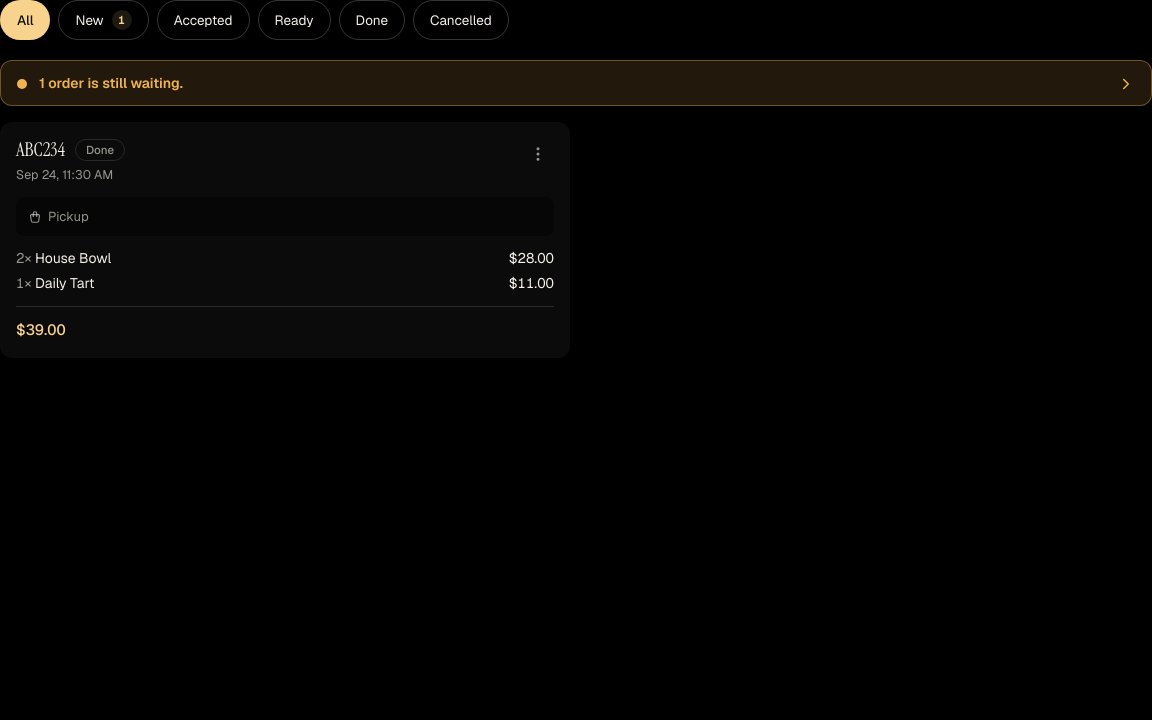
it: OrdersPage › keeps the order when the owner backs out of deleting it
This screenshot has width=1152, height=720.
Click the button named "More for order ABC234".
click(538, 154)  # box [522, 138, 554, 170]
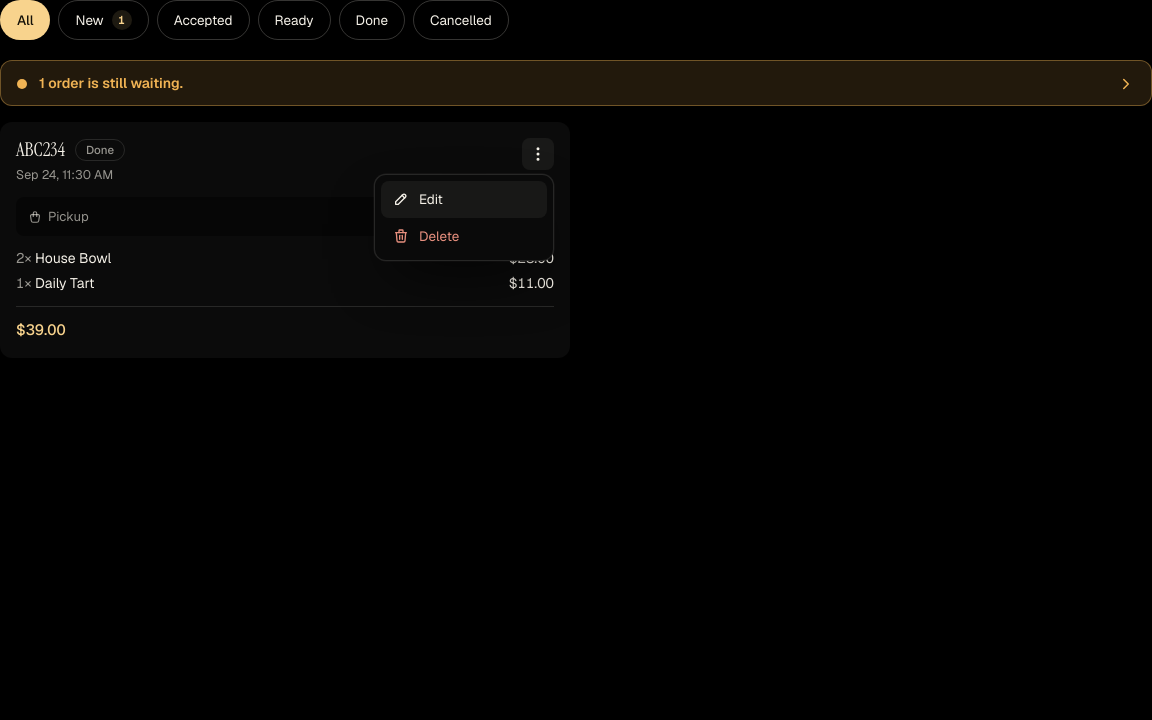
Click the menu item with aria-label "Delete order ABC234".
click(464, 236)  # box [381, 218, 547, 254]
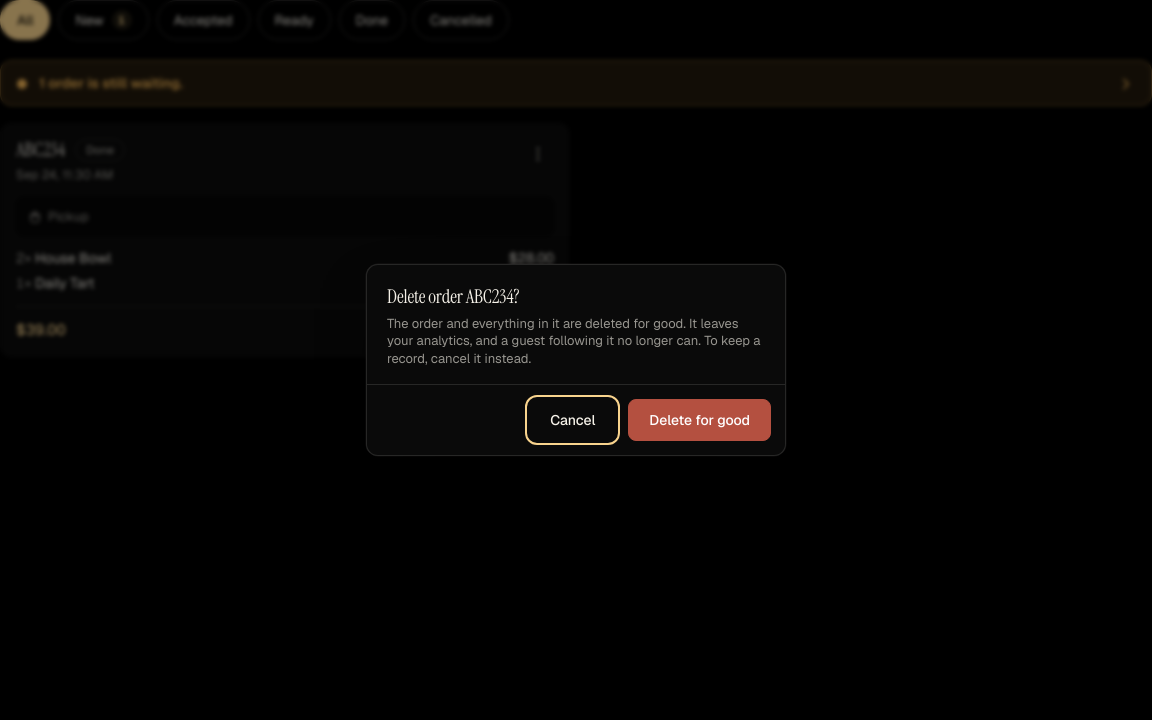
Click the button "Cancel".
click(573, 420)  # box [529, 399, 616, 441]
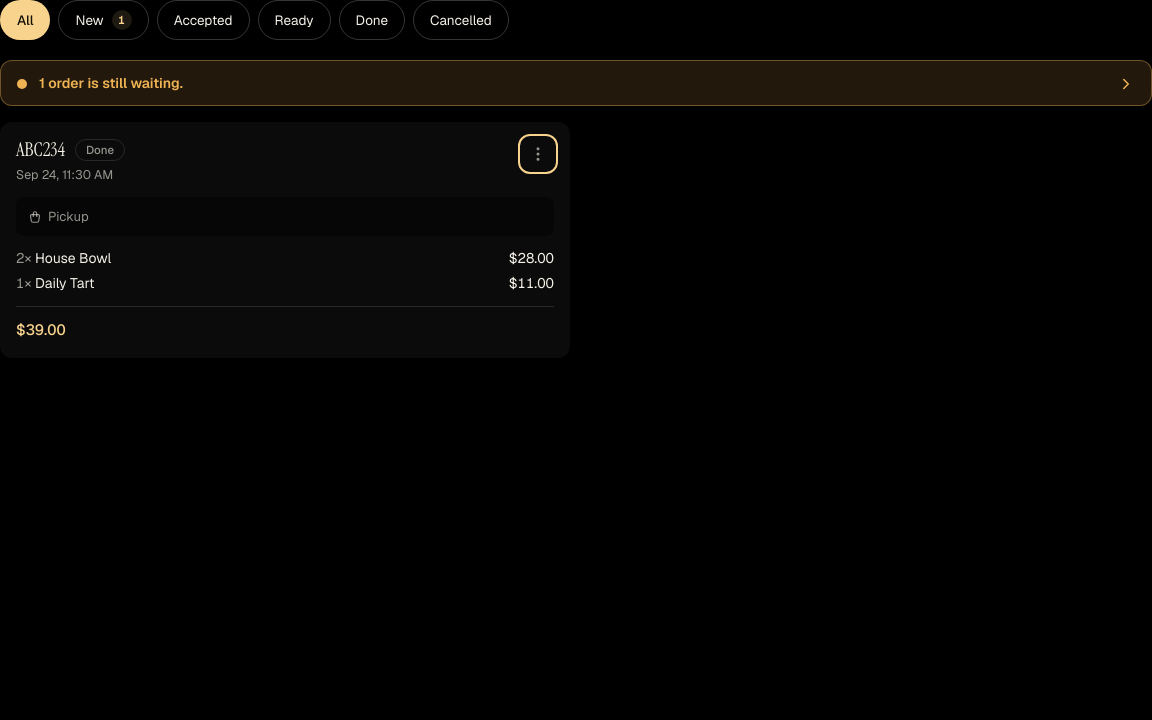
Expected: the text "ABC234" is shown, [16, 138, 65, 162]
Result: the dialog is gone
